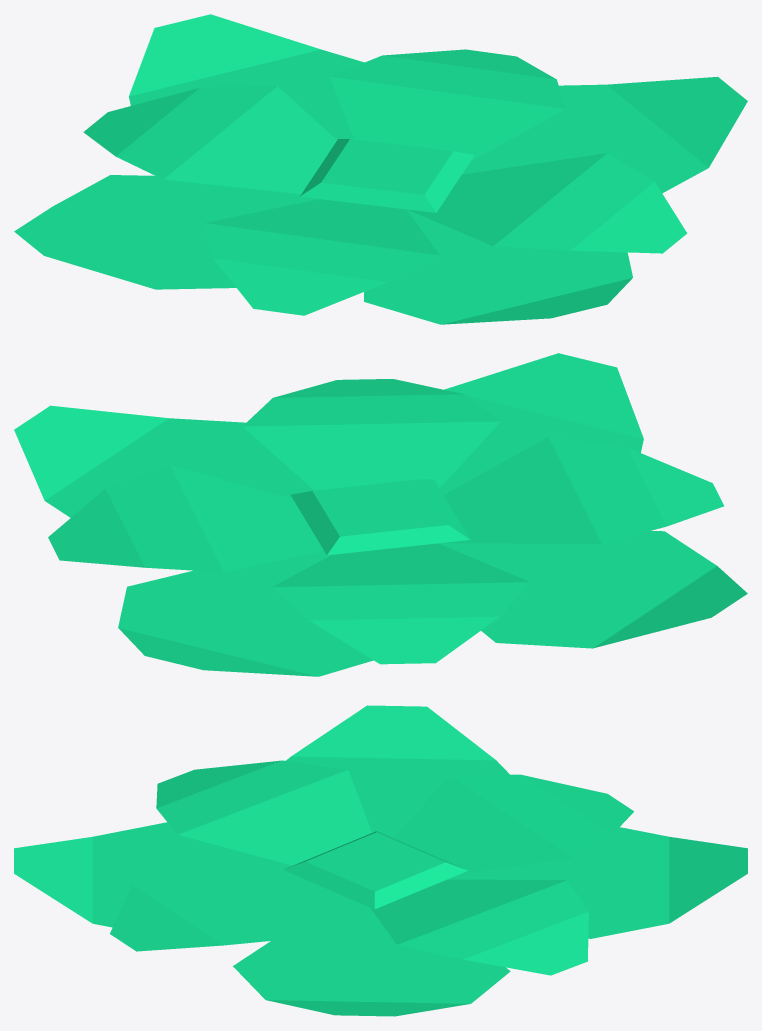
Rendered from SM_Flower1.fbx.
3 views of the same model, one above another, from view 1: azimuth 30°, elevation 25°; view 2: azimuth 150°, elevation 25°; view 3: azimuth 270°, elevation 25° (orthographic). The views are drawn at different scales.
Visible parts, largest first — view 1: flower Sristy; view 2: flower Sristy; view 3: flower Sristy.
Part boxes in pixels (x1,y1,x2,y2): flower Sristy: (14,14,747,324); flower Sristy: (14,353,747,676); flower Sristy: (14,705,747,1016).
Size of the model in its own units: 93.34 by 3.17 by 93.1.
